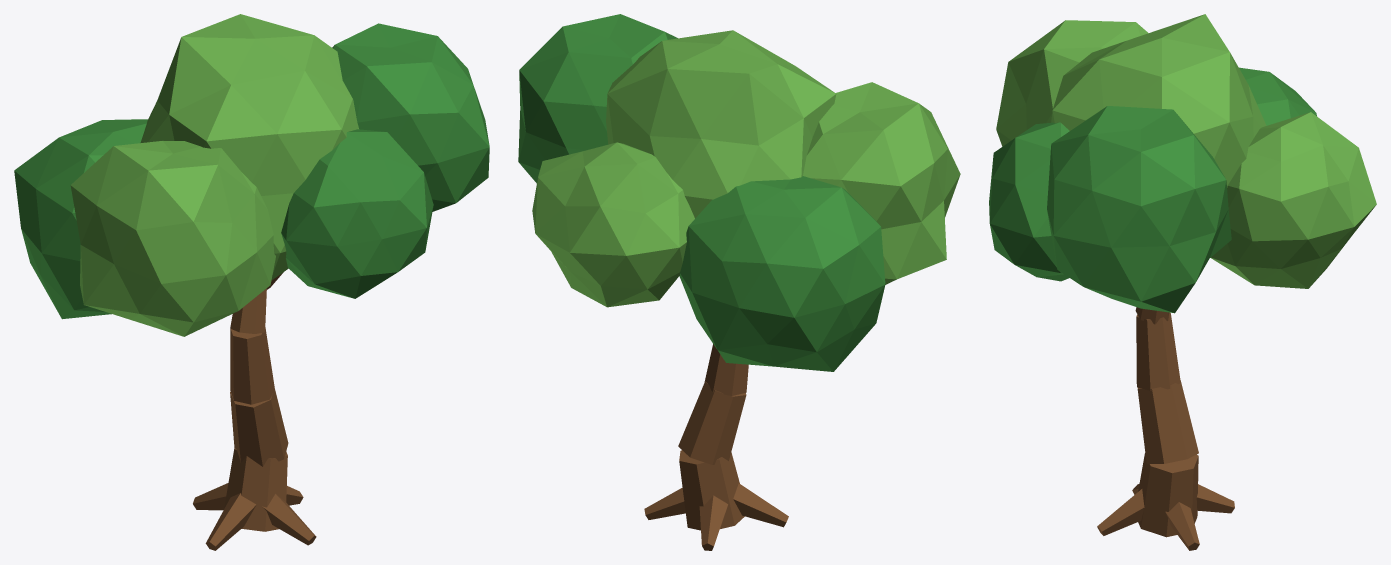
File: nat_oak_a_v01.glb
The picture shows the model from 3 angles, left to right: view 1: azimuth 30°, elevation 25°; view 2: azimuth 150°, elevation 25°; view 3: azimuth 270°, elevation 25°; orthographic projection. The views are drawn at different scales.
Parts seen in each view (by area): view 1: tree; view 2: tree; view 3: tree.
Part boxes in pixels (<box>): tree: <box>14,14,489,550</box>; tree: <box>518,14,960,550</box>; tree: <box>989,14,1376,550</box>.
Size of the model in its own units: 4.41 by 5.05 by 3.66.
